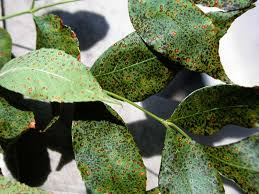Diseased_Leaves: (12, 58, 98, 104), (171, 158, 252, 188), (106, 50, 155, 91), (194, 93, 254, 126), (151, 5, 203, 30), (51, 15, 79, 51), (28, 122, 33, 127), (172, 32, 175, 34), (168, 142, 170, 143)
